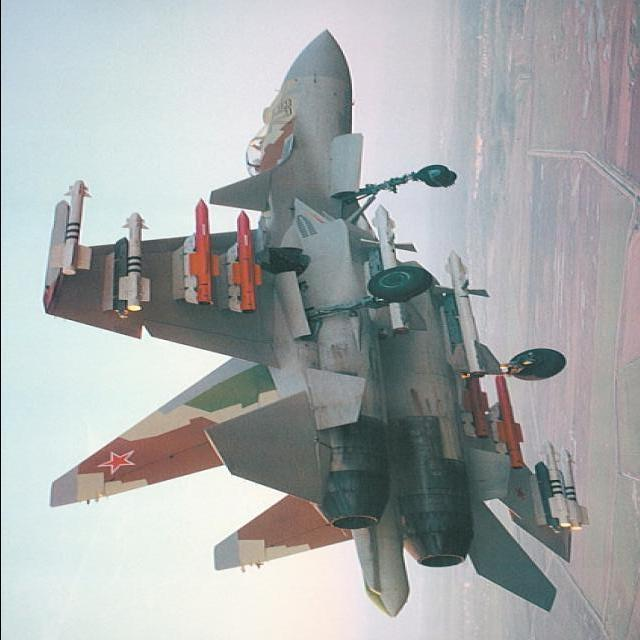missile: (436, 250, 504, 378), (354, 204, 419, 330), (52, 179, 96, 281), (536, 440, 579, 530), (185, 197, 218, 306), (493, 371, 527, 465), (558, 444, 596, 528), (234, 211, 262, 314)
